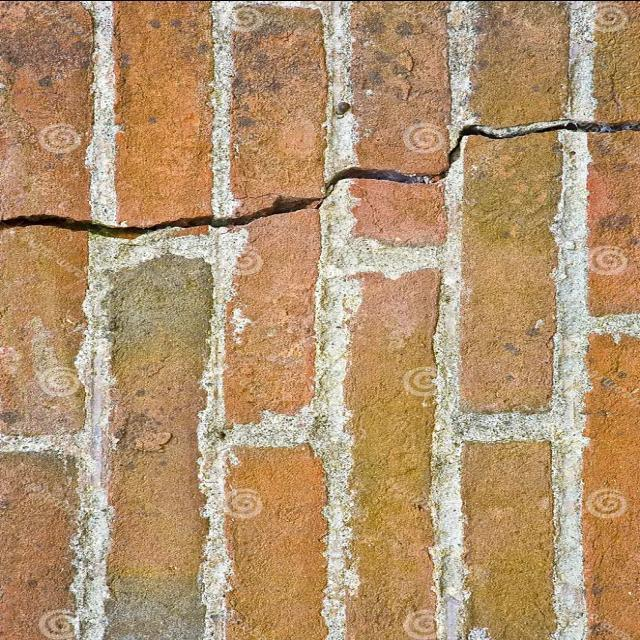crack: (8, 123, 639, 229), (87, 3, 119, 226), (208, 2, 238, 231), (88, 233, 222, 273), (459, 118, 636, 142), (566, 4, 598, 125), (5, 213, 137, 235)
